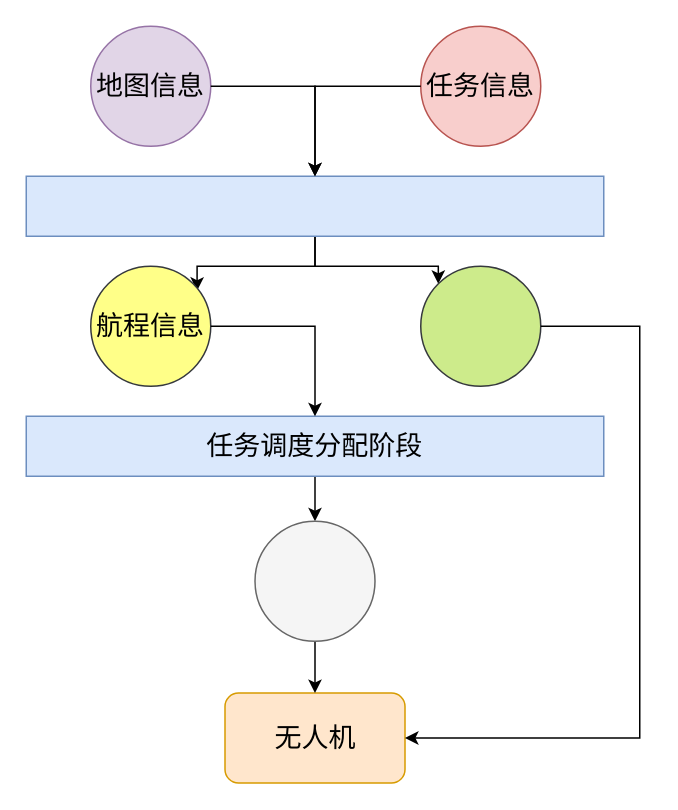
Image size: 678x810. Some labels were removed from this diagram. Here are the shapes that lost their labels. From the top down, the box of each, then its label:
(25, 175, 604, 236): 无人机航迹规划阶段
(419, 265, 541, 386): 航迹信息
(254, 520, 375, 641): 任务分配
